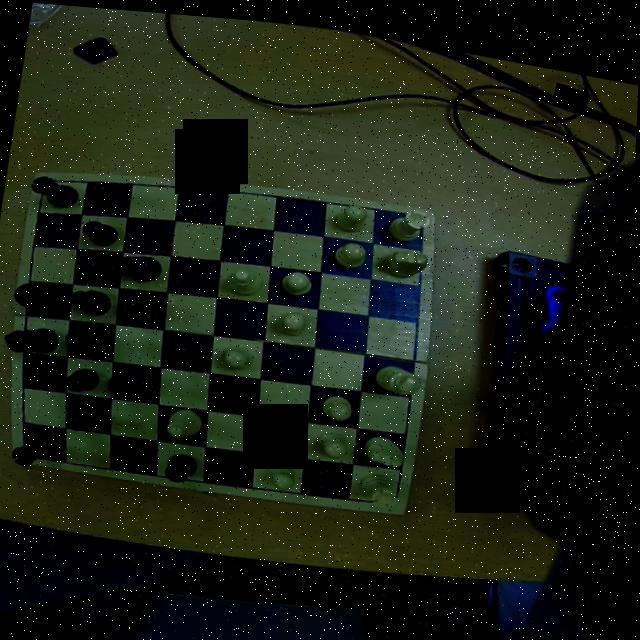chess-table-corners: (406, 198, 435, 225), (15, 442, 47, 464), (386, 480, 413, 506), (34, 170, 58, 193)
